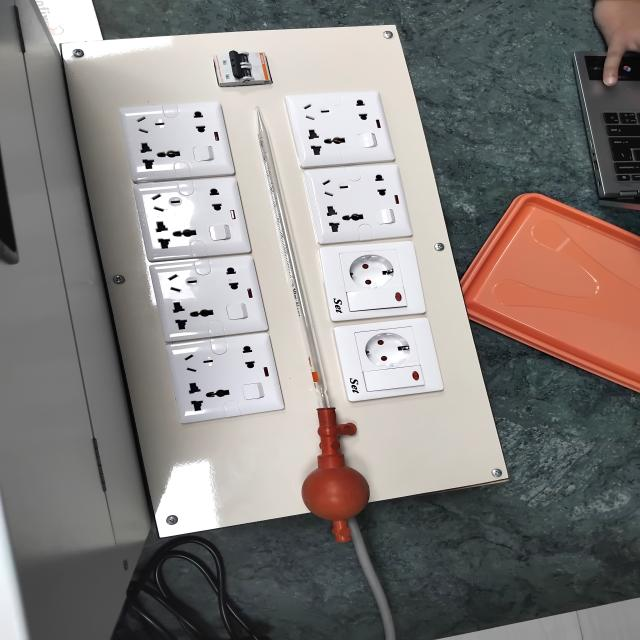Volumetric_Pipet: (220, 79, 386, 554)
